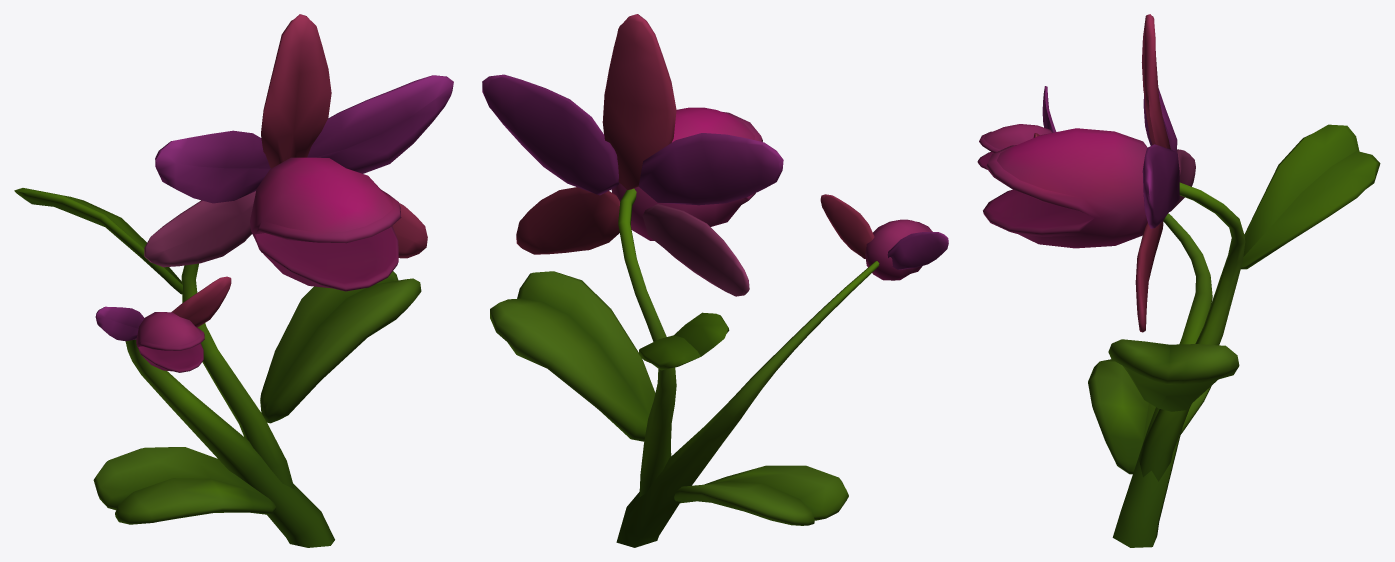
Rendered from Plant_9.fbx.
The picture shows the model from 3 angles, left to right: view 1: azimuth 30°, elevation 25°; view 2: azimuth 150°, elevation 25°; view 3: azimuth 270°, elevation 25°; orthographic projection.
Visible parts, largest first — view 1: Plant_9; view 2: Plant_9; view 3: Plant_9.
Part boxes in pixels (box(x1,y1,x2,y2)): Plant_9: box(14, 14, 453, 547); Plant_9: box(482, 14, 948, 547); Plant_9: box(977, 14, 1380, 547).
Bounding box in the file's own units: 4.67 × 5.74 × 4.
